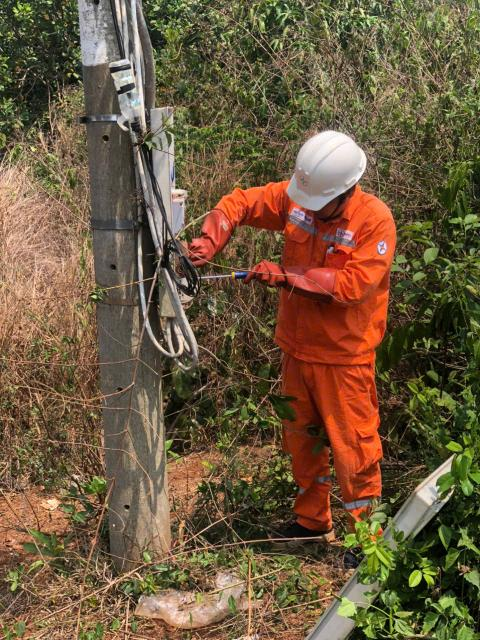gloves: (242, 253, 347, 306), (176, 205, 241, 270)
helmet: (292, 135, 371, 215)
shoes: (262, 510, 334, 555)
